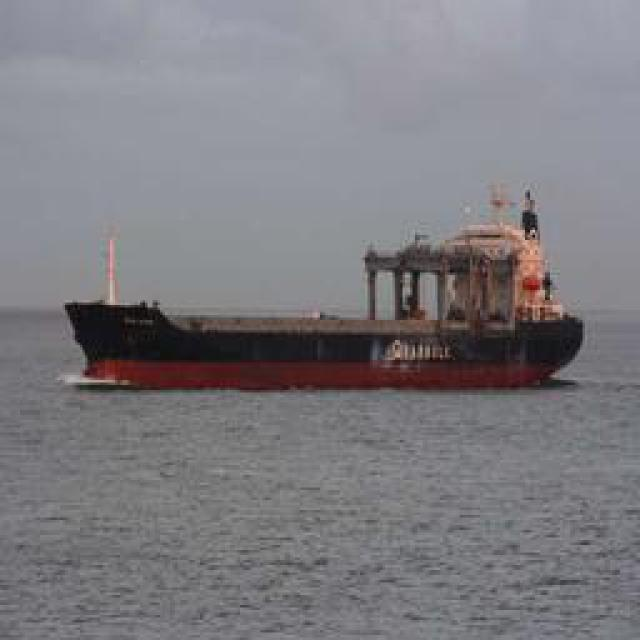Ship: (72, 211, 585, 396)
